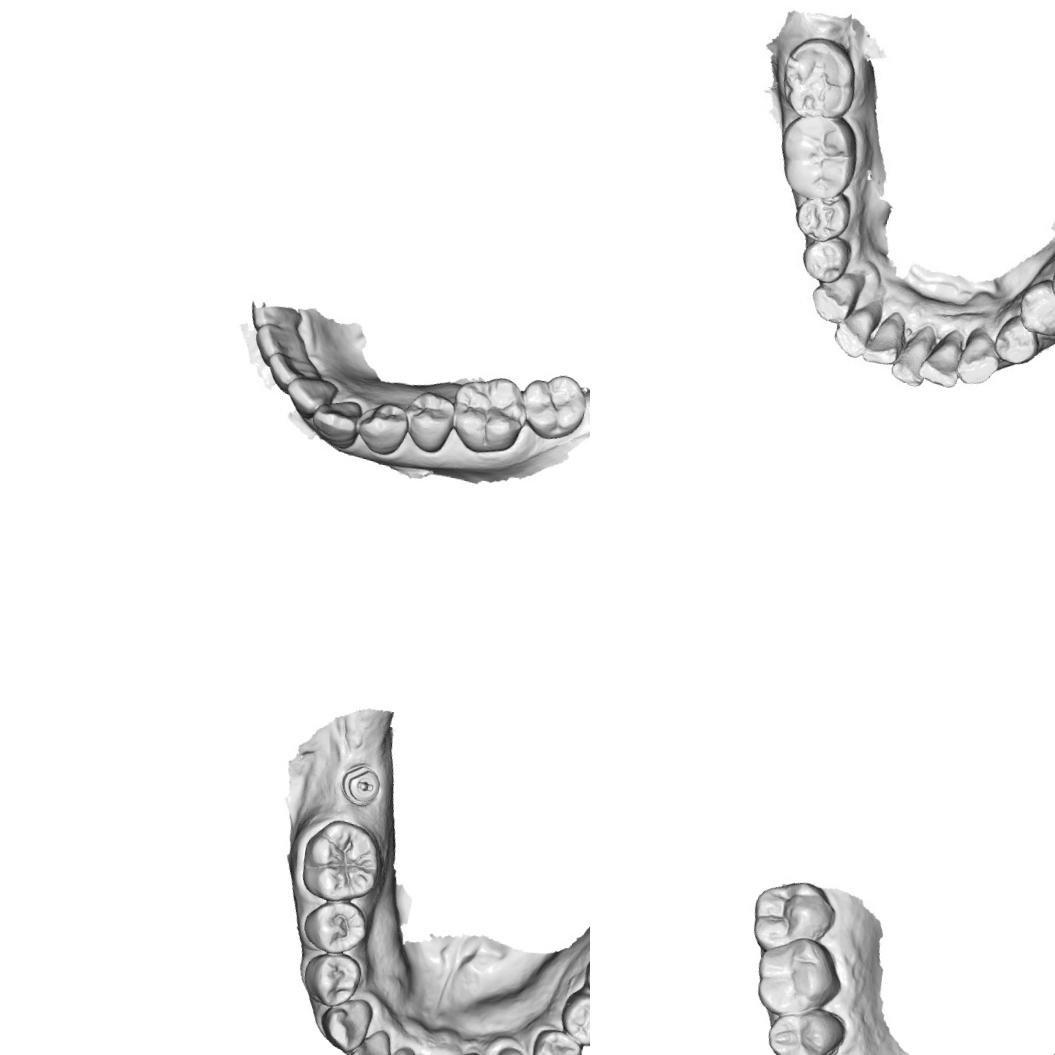canine: (316, 991, 374, 1055), (306, 392, 367, 450), (956, 324, 1003, 395), (806, 268, 861, 328)
implant_minus: (337, 759, 385, 811)
incisor: (247, 320, 314, 370), (280, 371, 342, 419), (263, 350, 324, 396), (893, 326, 936, 385), (922, 329, 966, 384), (835, 303, 879, 355), (866, 308, 904, 362), (347, 1024, 396, 1055)
molar: (750, 929, 850, 1025), (746, 873, 842, 962), (444, 369, 535, 461), (296, 814, 386, 907), (775, 115, 858, 200), (781, 32, 859, 118), (516, 368, 590, 446)
premolar: (763, 999, 850, 1055), (299, 894, 372, 960), (298, 946, 365, 1011), (399, 386, 458, 458), (352, 396, 412, 460), (989, 318, 1040, 368), (796, 193, 844, 241), (800, 238, 852, 281), (556, 987, 590, 1051), (1016, 283, 1055, 336), (527, 1025, 587, 1055)
